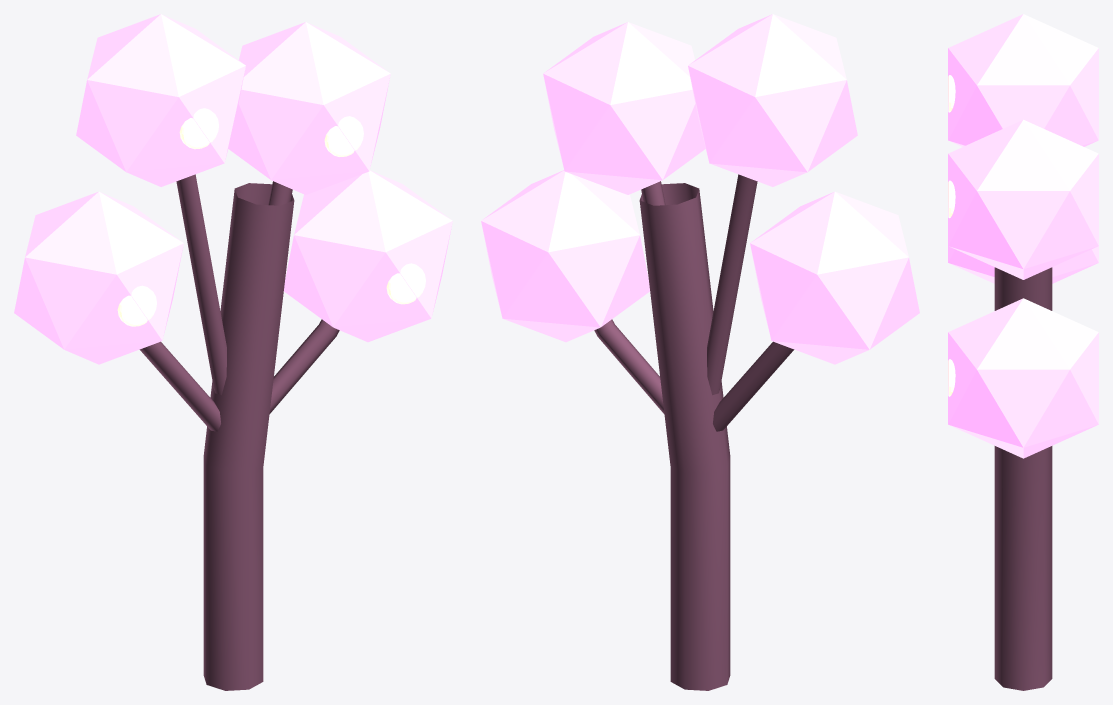
Rendered from SM_BloomTree.fbx.
3 renders of one model, left to right at view 1: azimuth 30°, elevation 25°; view 2: azimuth 150°, elevation 25°; view 3: azimuth 270°, elevation 25°, orthographic. The views are drawn at different scales.
Visible parts, largest first — view 1: SM_BloomTree; view 2: SM_BloomTree; view 3: SM_BloomTree.
Boxes of the visible parts, x1,y1,x2,y2 form: SM_BloomTree: (14, 14, 452, 690); SM_BloomTree: (481, 14, 919, 690); SM_BloomTree: (948, 14, 1098, 690).
Size of the model in its own units: 202 by 68.05 by 315.
